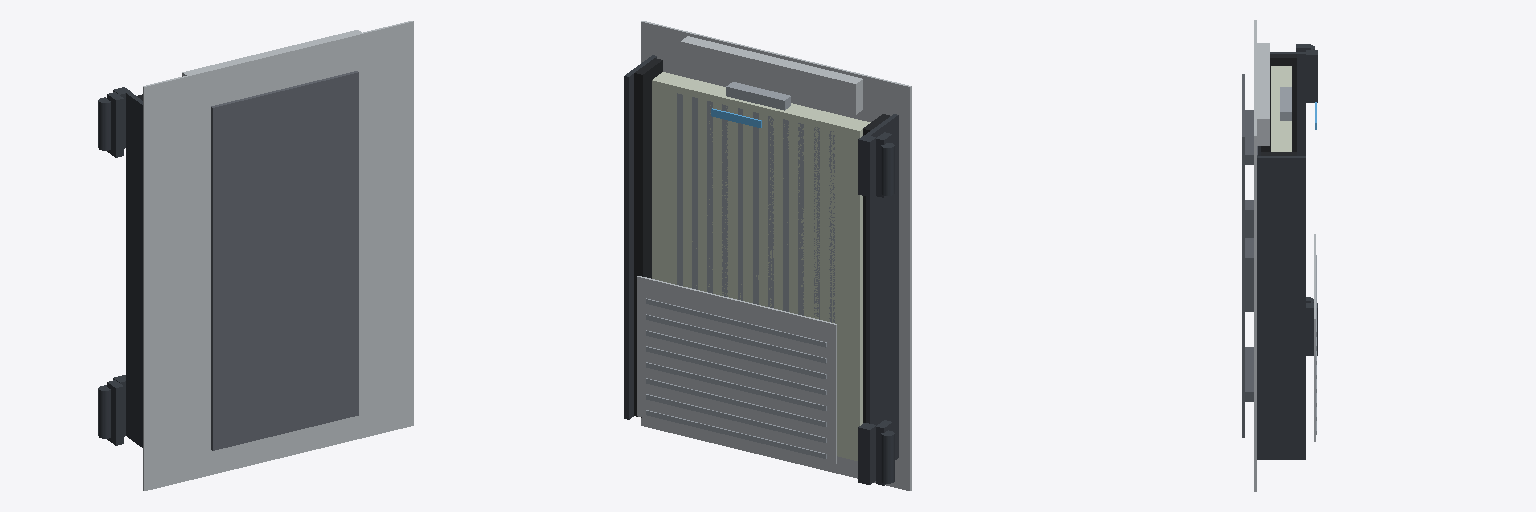
robot.urdf — wall_hung_air_purifier:
<robot name="wall_hung_air_purifier">
  <material name="housing_white">
    <color rgba="0.93 0.94 0.95 1" />
    </material>
  <material name="housing_shadow">
    <color rgba="0.77 0.79 0.81 1" />
    </material>
  <material name="bracket_grey">
    <color rgba="0.43 0.45 0.48 1" />
    </material>
  <material name="hinge_dark">
    <color rgba="0.28 0.3 0.33 1" />
    </material>
  <material name="filter_frame">
    <color rgba="0.2 0.21 0.22 1" />
    </material>
  <material name="filter_media">
    <color rgba="0.82 0.85 0.79 1" />
    </material>
  <material name="accent_grey">
    <color rgba="0.66 0.69 0.72 1" />
    </material>
  <material name="led_blue">
    <color rgba="0.42 0.73 0.94 0.75" />
    </material>
  <link name="wall_bracket">
    <visual name="back_plate">
      <origin xyz="0 0.003 0" rpy="0 0 0" />
      <geometry>
        <box size="0.25 0.006 0.56" />
        </geometry>
      <material name="bracket_grey">
        <color rgba="0.43 0.45 0.48 1" />
        </material>
      </visual>
    <visual name="upper_hook">
      <origin xyz="0 0.017 0.22" rpy="0 0 0" />
      <geometry>
        <box size="0.18 0.022 0.018" />
        </geometry>
      <material name="bracket_grey">
        <color rgba="0.43 0.45 0.48 1" />
        </material>
      </visual>
    <visual name="lower_hook">
      <origin xyz="0 0.017 -0.22" rpy="0 0 0" />
      <geometry>
        <box size="0.18 0.022 0.018" />
        </geometry>
      <material name="bracket_grey">
        <color rgba="0.43 0.45 0.48 1" />
        </material>
      </visual>
    <visual name="left_standoff">
      <origin xyz="-0.096 0.014 0" rpy="0 0 0" />
      <geometry>
        <box size="0.038 0.016 0.1" />
        </geometry>
      <material name="bracket_grey">
        <color rgba="0.43 0.45 0.48 1" />
        </material>
      </visual>
    <visual name="right_standoff">
      <origin xyz="0.096 0.014 0" rpy="0 0 0" />
      <geometry>
        <box size="0.038 0.016 0.1" />
        </geometry>
      <material name="bracket_grey">
        <color rgba="0.43 0.45 0.48 1" />
        </material>
      </visual>
    <visual name="center_latch">
      <origin xyz="0 0.014 0" rpy="0 0 0" />
      <geometry>
        <box size="0.06 0.016 0.04" />
        </geometry>
      <material name="bracket_grey">
        <color rgba="0.43 0.45 0.48 1" />
        </material>
      </visual>
    </link>
  <link name="housing">
    <visual name="front_frame">
      <origin xyz="0 0.066 0" rpy="0 0 0" />
      <geometry>
        <mesh filename="assets/meshes/purifier_housing_frame.obj" />
        </geometry>
      <material name="housing_white">
        <color rgba="0.93 0.94 0.95 1" />
        </material>
      </visual>
    <visual name="rear_panel">
      <origin xyz="0 0.023 0" rpy="0 0 0" />
      <geometry>
        <box size="0.46 0.004 0.66" />
        </geometry>
      <material name="housing_shadow">
        <color rgba="0.77 0.79 0.81 1" />
        </material>
      </visual>
    <visual name="top_plenum">
      <origin xyz="0 0.035 0.3" rpy="0 0 0" />
      <geometry>
        <box size="0.3 0.024 0.05" />
        </geometry>
      <material name="housing_shadow">
        <color rgba="0.77 0.79 0.81 1" />
        </material>
      </visual>
    <visual name="left_rail">
      <origin xyz="-0.206 0.066 0" rpy="0 0 0" />
      <geometry>
        <box size="0.008 0.086 0.56" />
        </geometry>
      <material name="hinge_dark">
        <color rgba="0.28 0.3 0.33 1" />
        </material>
      </visual>
    <visual name="right_rail">
      <origin xyz="0.206 0.066 0" rpy="0 0 0" />
      <geometry>
        <box size="0.008 0.086 0.56" />
        </geometry>
      <material name="hinge_dark">
        <color rgba="0.28 0.3 0.33 1" />
        </material>
      </visual>
    <visual name="upper_hinge_leaf">
      <origin xyz="-0.231 0.104 0.235" rpy="0 0 0" />
      <geometry>
        <box size="0.014 0.026 0.094" />
        </geometry>
      <material name="hinge_dark">
        <color rgba="0.28 0.3 0.33 1" />
        </material>
      </visual>
    <visual name="lower_hinge_leaf">
      <origin xyz="-0.231 0.104 -0.235" rpy="0 0 0" />
      <geometry>
        <box size="0.014 0.026 0.094" />
        </geometry>
      <material name="hinge_dark">
        <color rgba="0.28 0.3 0.33 1" />
        </material>
      </visual>
    <visual name="upper_knuckle">
      <origin xyz="-0.243 0.114 0.235" rpy="0 0 0" />
      <geometry>
        <cylinder radius="0.01" length="0.078" />
        </geometry>
      <material name="hinge_dark">
        <color rgba="0.28 0.3 0.33 1" />
        </material>
      </visual>
    <visual name="lower_knuckle">
      <origin xyz="-0.243 0.114 -0.235" rpy="0 0 0" />
      <geometry>
        <cylinder radius="0.01" length="0.078" />
        </geometry>
      <material name="hinge_dark">
        <color rgba="0.28 0.3 0.33 1" />
        </material>
      </visual>
    </link>
  <link name="front_cover">
    <visual name="cover_panel">
      <origin xyz="0.252 0 0" rpy="0 0 0" />
      <geometry>
        <mesh filename="assets/meshes/purifier_front_cover.obj" />
        </geometry>
      <material name="housing_white">
        <color rgba="0.93 0.94 0.95 1" />
        </material>
      </visual>
    <visual name="grille_recess">
      <origin xyz="0.252 0.004 -0.148" rpy="0 0 0" />
      <geometry>
        <box size="0.34 0.004 0.228" />
        </geometry>
      <material name="housing_shadow">
        <color rgba="0.77 0.79 0.81 1" />
        </material>
      </visual>
    <visual name="grille_slat_0">
      <origin xyz="0.252 0.006 -0.07" rpy="0 0 0" />
      <geometry>
        <box size="0.308 0.004 0.008" />
        </geometry>
      <material name="accent_grey">
        <color rgba="0.66 0.69 0.72 1" />
        </material>
      </visual>
    <visual name="grille_slat_1">
      <origin xyz="0.252 0.006 -0.096" rpy="0 0 0" />
      <geometry>
        <box size="0.308 0.004 0.008" />
        </geometry>
      <material name="accent_grey">
        <color rgba="0.66 0.69 0.72 1" />
        </material>
      </visual>
    <visual name="grille_slat_2">
      <origin xyz="0.252 0.006 -0.122" rpy="0 0 0" />
      <geometry>
        <box size="0.308 0.004 0.008" />
        </geometry>
      <material name="accent_grey">
        <color rgba="0.66 0.69 0.72 1" />
        </material>
      </visual>
    <visual name="grille_slat_3">
      <origin xyz="0.252 0.006 -0.148" rpy="0 0 0" />
      <geometry>
        <box size="0.308 0.004 0.008" />
        </geometry>
      <material name="accent_grey">
        <color rgba="0.66 0.69 0.72 1" />
        </material>
      </visual>
    <visual name="grille_slat_4">
      <origin xyz="0.252 0.006 -0.174" rpy="0 0 0" />
      <geometry>
        <box size="0.308 0.004 0.008" />
        </geometry>
      <material name="accent_grey">
        <color rgba="0.66 0.69 0.72 1" />
        </material>
      </visual>
    <visual name="grille_slat_5">
      <origin xyz="0.252 0.006 -0.2" rpy="0 0 0" />
      <geometry>
        <box size="0.308 0.004 0.008" />
        </geometry>
      <material name="accent_grey">
        <color rgba="0.66 0.69 0.72 1" />
        </material>
      </visual>
    <visual name="grille_slat_6">
      <origin xyz="0.252 0.006 -0.226" rpy="0 0 0" />
      <geometry>
        <box size="0.308 0.004 0.008" />
        </geometry>
      <material name="accent_grey">
        <color rgba="0.66 0.69 0.72 1" />
        </material>
      </visual>
    <visual name="grille_slat_7">
      <origin xyz="0.252 0.006 -0.252" rpy="0 0 0" />
      <geometry>
        <box size="0.308 0.004 0.008" />
        </geometry>
      <material name="accent_grey">
        <color rgba="0.66 0.69 0.72 1" />
        </material>
      </visual>
    <visual name="status_strip">
      <origin xyz="0.252 0.0065 0.264" rpy="0 0 0" />
      <geometry>
        <box size="0.084 0.003 0.012" />
        </geometry>
      <material name="led_blue">
        <color rgba="0.42 0.73 0.94 0.75" />
        </material>
      </visual>
    <visual name="upper_hinge_strap">
      <origin xyz="0.032 0 0.235" rpy="0 0 0" />
      <geometry>
        <box size="0.02 0.02 0.09" />
        </geometry>
      <material name="hinge_dark">
        <color rgba="0.28 0.3 0.33 1" />
        </material>
      </visual>
    <visual name="lower_hinge_strap">
      <origin xyz="0.032 0 -0.235" rpy="0 0 0" />
      <geometry>
        <box size="0.02 0.02 0.09" />
        </geometry>
      <material name="hinge_dark">
        <color rgba="0.28 0.3 0.33 1" />
        </material>
      </visual>
    </link>
  <link name="filter_cartridge">
    <visual name="filter_frame">
      <geometry>
        <mesh filename="assets/meshes/purifier_filter_frame.obj" />
        </geometry>
      <material name="filter_frame">
        <color rgba="0.2 0.21 0.22 1" />
        </material>
      </visual>
    <visual name="media_block">
      <geometry>
        <box size="0.356 0.034 0.54" />
        </geometry>
      <material name="filter_media">
        <color rgba="0.82 0.85 0.79 1" />
        </material>
      </visual>
    <visual name="media_pleat_0">
      <origin xyz="-0.13 0.014 0" rpy="0 0 0" />
      <geometry>
        <box size="0.01 0.006 0.518" />
        </geometry>
      <material name="accent_grey">
        <color rgba="0.66 0.69 0.72 1" />
        </material>
      </visual>
    <visual name="media_pleat_1">
      <origin xyz="-0.104 0.014 0" rpy="0 0 0" />
      <geometry>
        <box size="0.01 0.006 0.518" />
        </geometry>
      <material name="accent_grey">
        <color rgba="0.66 0.69 0.72 1" />
        </material>
      </visual>
    <visual name="media_pleat_2">
      <origin xyz="-0.078 0.014 0" rpy="0 0 0" />
      <geometry>
        <box size="0.01 0.006 0.518" />
        </geometry>
      <material name="accent_grey">
        <color rgba="0.66 0.69 0.72 1" />
        </material>
      </visual>
    <visual name="media_pleat_3">
      <origin xyz="-0.052 0.014 0" rpy="0 0 0" />
      <geometry>
        <box size="0.01 0.006 0.518" />
        </geometry>
      <material name="accent_grey">
        <color rgba="0.66 0.69 0.72 1" />
        </material>
      </visual>
    <visual name="media_pleat_4">
      <origin xyz="-0.026 0.014 0" rpy="0 0 0" />
      <geometry>
        <box size="0.01 0.006 0.518" />
        </geometry>
      <material name="accent_grey">
        <color rgba="0.66 0.69 0.72 1" />
        </material>
      </visual>
    <visual name="media_pleat_5">
      <origin xyz="0 0.014 0" rpy="0 0 0" />
      <geometry>
        <box size="0.01 0.006 0.518" />
        </geometry>
      <material name="accent_grey">
        <color rgba="0.66 0.69 0.72 1" />
        </material>
      </visual>
    <visual name="media_pleat_6">
      <origin xyz="0.026 0.014 0" rpy="0 0 0" />
      <geometry>
        <box size="0.01 0.006 0.518" />
        </geometry>
      <material name="accent_grey">
        <color rgba="0.66 0.69 0.72 1" />
        </material>
      </visual>
    <visual name="media_pleat_7">
      <origin xyz="0.052 0.014 0" rpy="0 0 0" />
      <geometry>
        <box size="0.01 0.006 0.518" />
        </geometry>
      <material name="accent_grey">
        <color rgba="0.66 0.69 0.72 1" />
        </material>
      </visual>
    <visual name="media_pleat_8">
      <origin xyz="0.078 0.014 0" rpy="0 0 0" />
      <geometry>
        <box size="0.01 0.006 0.518" />
        </geometry>
      <material name="accent_grey">
        <color rgba="0.66 0.69 0.72 1" />
        </material>
      </visual>
    <visual name="media_pleat_9">
      <origin xyz="0.104 0.014 0" rpy="0 0 0" />
      <geometry>
        <box size="0.01 0.006 0.518" />
        </geometry>
      <material name="accent_grey">
        <color rgba="0.66 0.69 0.72 1" />
        </material>
      </visual>
    <visual name="media_pleat_10">
      <origin xyz="0.13 0.014 0" rpy="0 0 0" />
      <geometry>
        <box size="0.01 0.006 0.518" />
        </geometry>
      <material name="accent_grey">
        <color rgba="0.66 0.69 0.72 1" />
        </material>
      </visual>
    <visual name="left_runner">
      <origin xyz="-0.195 -0.004 0" rpy="0 0 0" />
      <geometry>
        <box size="0.014 0.06 0.56" />
        </geometry>
      <material name="filter_frame">
        <color rgba="0.2 0.21 0.22 1" />
        </material>
      </visual>
    <visual name="right_runner">
      <origin xyz="0.195 -0.004 0" rpy="0 0 0" />
      <geometry>
        <box size="0.014 0.06 0.56" />
        </geometry>
      <material name="filter_frame">
        <color rgba="0.2 0.21 0.22 1" />
        </material>
      </visual>
    <visual name="pull_tab">
      <origin xyz="0 0.008 0.282" rpy="0 0 0" />
      <geometry>
        <box size="0.1 0.02 0.016" />
        </geometry>
      <material name="accent_grey">
        <color rgba="0.66 0.69 0.72 1" />
        </material>
      </visual>
    </link>
  <joint name="bracket_to_housing" type="fixed">
    <parent link="wall_bracket" />
    <child link="housing" />
    </joint>
  <joint name="housing_to_cover" type="revolute">
    <origin xyz="-0.243 0.119 0" rpy="0 0 0" />
    <parent link="housing" />
    <child link="front_cover" />
    <axis xyz="0 0 1" />
    <limit effort="8" velocity="1.2" lower="0" upper="1.75" />
    </joint>
  <joint name="housing_to_filter" type="prismatic">
    <origin xyz="0 0.067 0" rpy="0 0 0" />
    <parent link="housing" />
    <child link="filter_cartridge" />
    <axis xyz="0 1 0" />
    <limit effort="18" velocity="0.2" lower="0" upper="0.12" />
    </joint>
  </robot>

--- What the picture shows (computed from the rendered views, not written in the file) ---
The picture shows the robot from 3 angles, left to right: view 1: azimuth 30°, elevation 25°; view 2: azimuth 150°, elevation 25°; view 3: azimuth 270°, elevation 25°; orthographic projection.
Model wall_hung_air_purifier with 4 links and 3 joints (1 revolute, 1 prismatic, 1 fixed), rooted at wall_bracket, posed every joint at zero.
Visible links, largest first — view 1: housing, wall_bracket; view 2: filter_cartridge, housing, front_cover; view 3: housing, wall_bracket, filter_cartridge, front_cover.
Boxes of the visible links, x1,y1,x2,y2 form: housing: (98, 21, 413, 490); wall_bracket: (211, 71, 358, 450); filter_cartridge: (634, 58, 889, 460); housing: (624, 21, 911, 490); front_cover: (637, 108, 876, 484); housing: (1254, 20, 1314, 491); wall_bracket: (1242, 74, 1257, 437); filter_cartridge: (1261, 54, 1296, 155); front_cover: (1306, 50, 1317, 441).
Size in the robot's own frame: 0.483 by 0.129 by 0.66 metres.
0 mesh visuals loaded from 3 distinct referenced files (none loaded); not drawn: 3 (reference not matched to a file when rendering).
